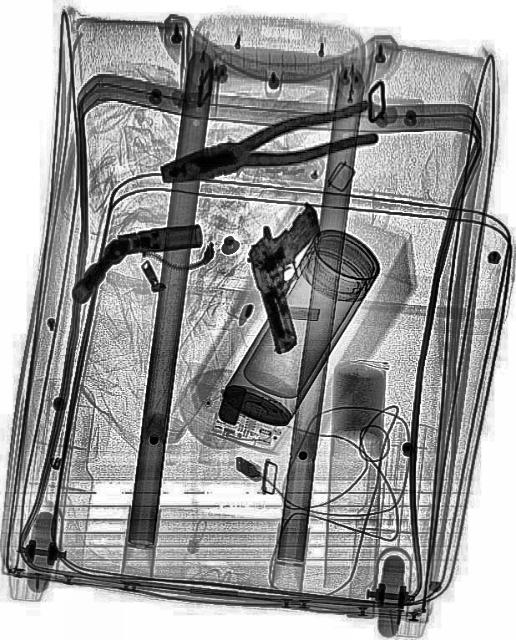Gun: (239, 202, 345, 356)
Pliers: (155, 97, 378, 197)
